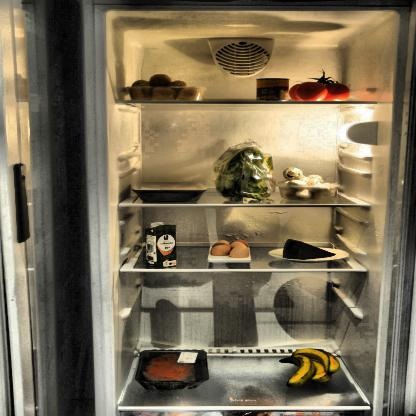banana: (280, 346, 342, 387)
beef: (142, 351, 202, 379)
cheese: (280, 238, 343, 260)
corn: (256, 78, 289, 102)
eggs: (208, 237, 250, 260)
heavy_cream: (143, 220, 179, 270)
mushrooms: (280, 167, 336, 199)
potato: (125, 74, 202, 101)
spinach: (214, 146, 275, 202)
tomato: (290, 80, 354, 102)
